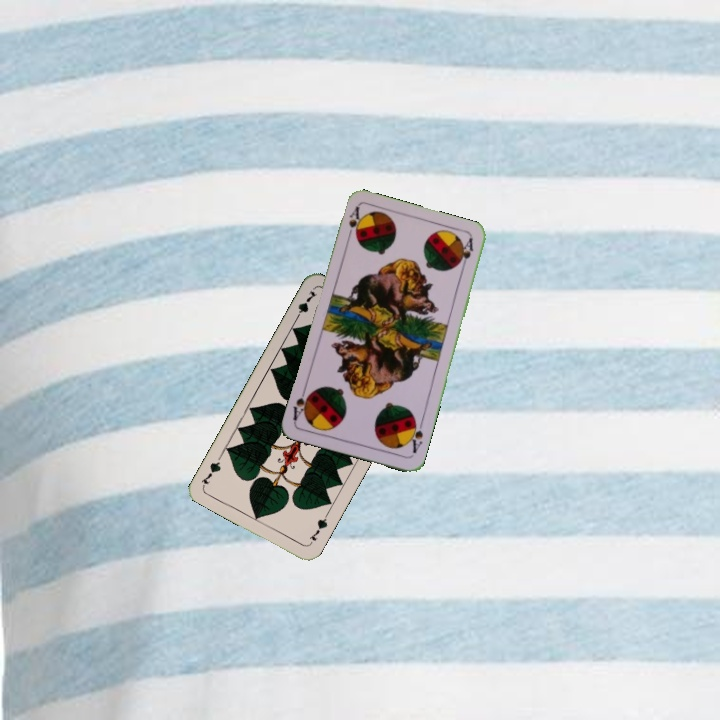G7: (291, 286, 320, 323), (305, 510, 331, 548)
SA: (404, 416, 426, 456), (343, 203, 364, 243)
